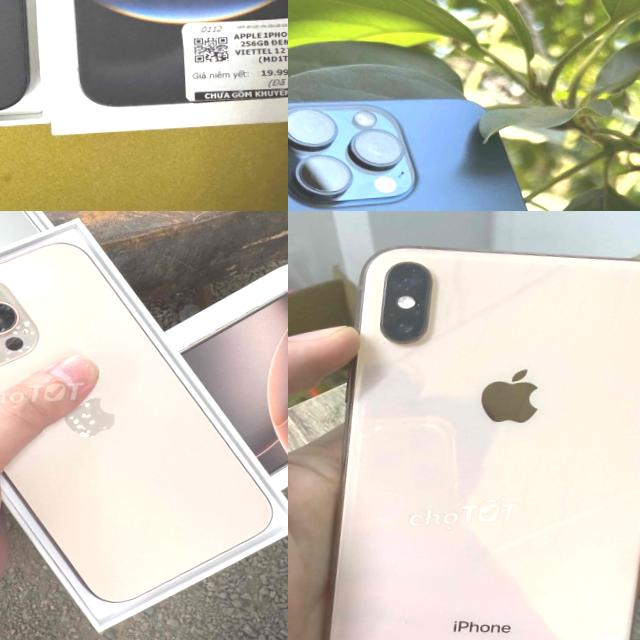gen_15: (288, 70, 634, 211)
gen_16: (0, 230, 282, 616)
gen_x_xs: (328, 247, 640, 640)
